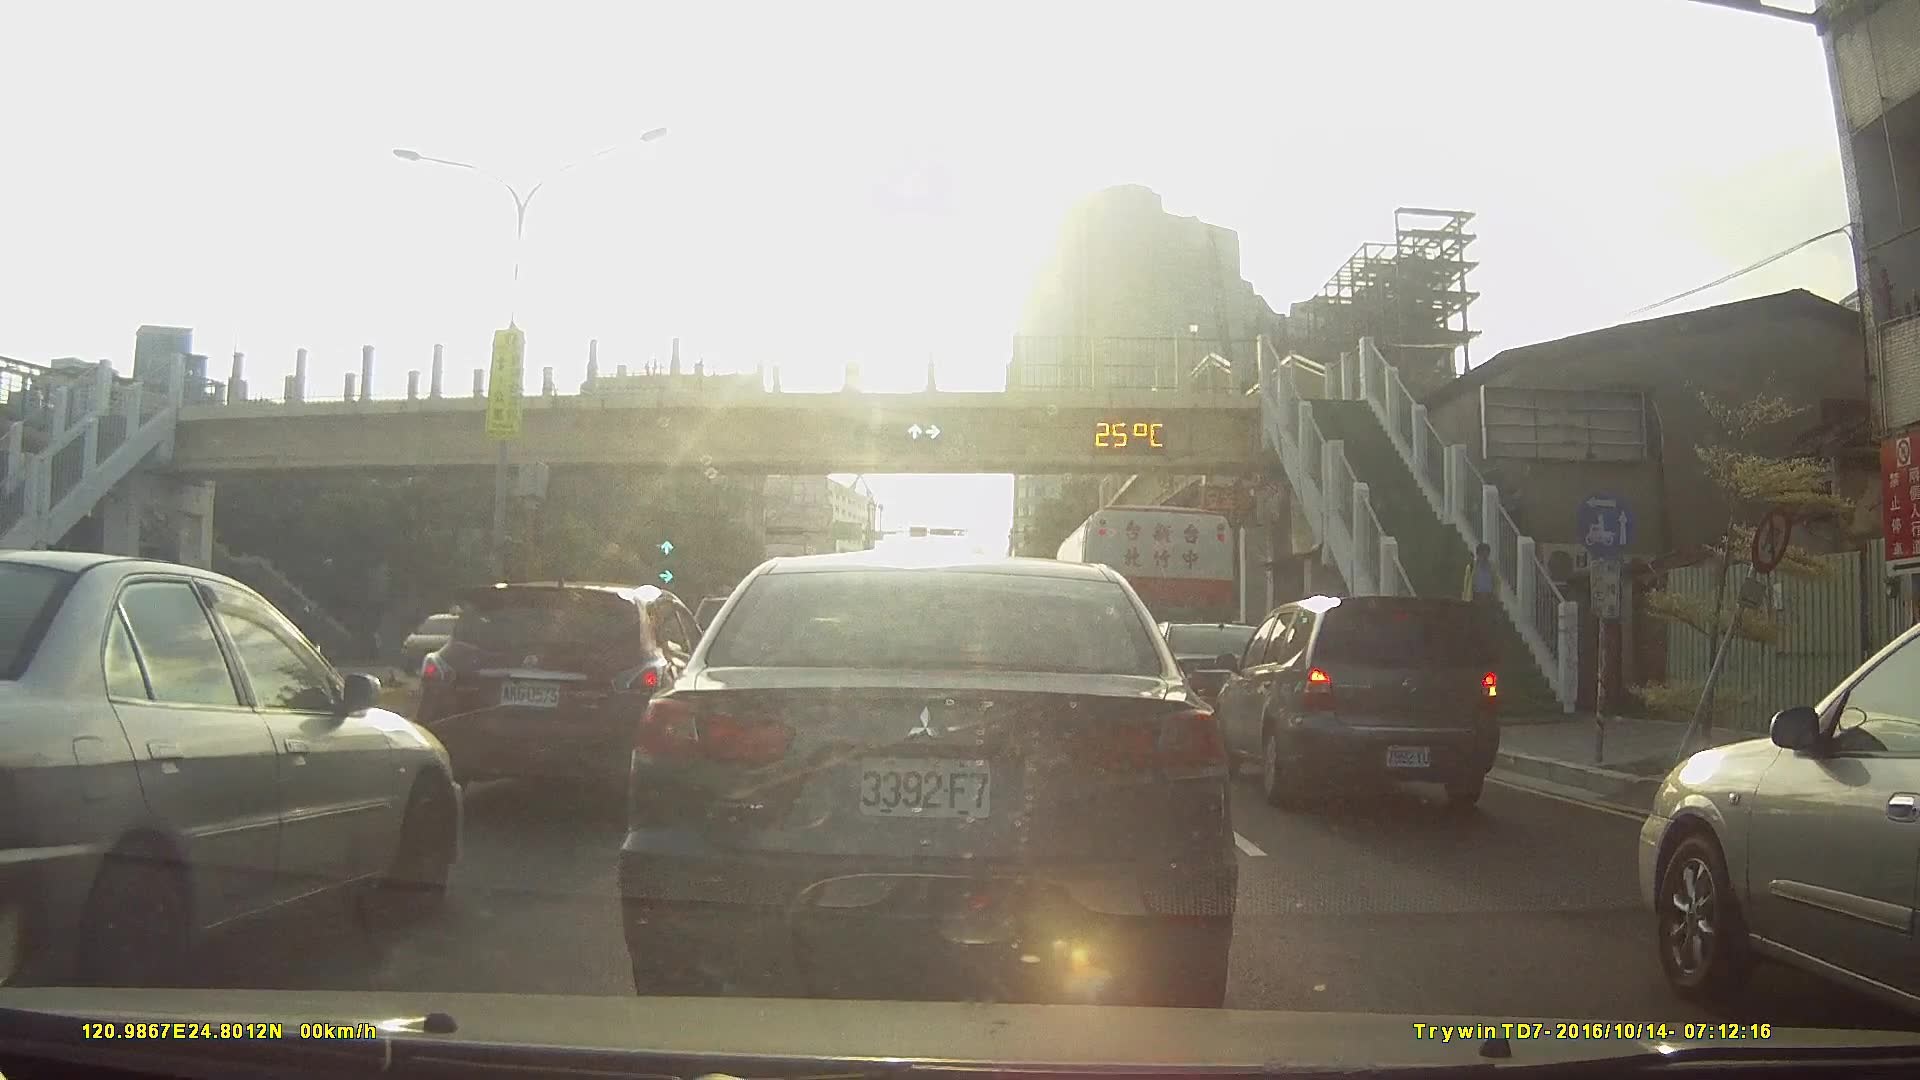pedestrian: (1462, 541, 1510, 647)
rider: (284, 607, 324, 677)
vehicle: (615, 553, 1239, 1002), (0, 547, 466, 997), (1625, 609, 1920, 1019), (423, 579, 723, 798), (1210, 593, 1515, 808), (1101, 615, 1286, 740), (394, 612, 509, 680)
